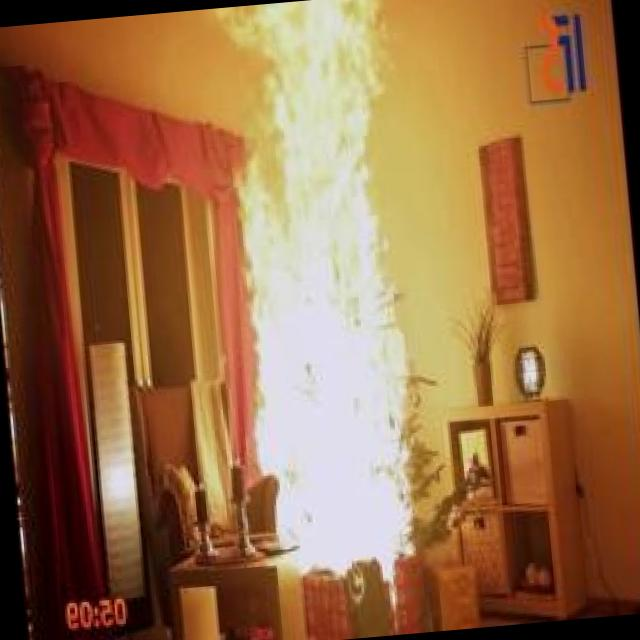fire: (177, 0, 468, 599)
